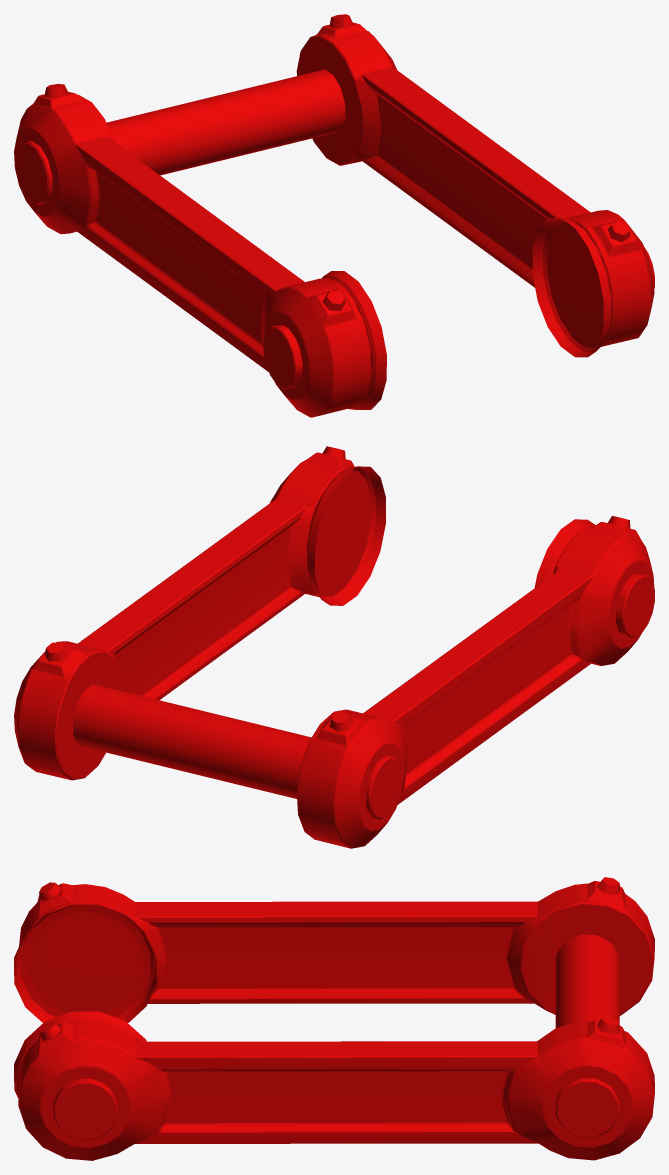
Rendered from ExcavatorMachine_Linkage02_01a_snaps005.fbx.
3 renders of one model, top to bottom at view 1: azimuth 30°, elevation 25°; view 2: azimuth 150°, elevation 25°; view 3: azimuth 270°, elevation 25°, orthographic.
Visible parts, largest first — view 1: ExcavatorMachine_Linkage02_01a_snaps005_LOD0; view 2: ExcavatorMachine_Linkage02_01a_snaps005_LOD0; view 3: ExcavatorMachine_Linkage02_01a_snaps005_LOD0.
Boxes of the visible parts, box(x1,y1,x2,y2) form: ExcavatorMachine_Linkage02_01a_snaps005_LOD0: box(14, 14, 654, 417); ExcavatorMachine_Linkage02_01a_snaps005_LOD0: box(14, 446, 654, 848); ExcavatorMachine_Linkage02_01a_snaps005_LOD0: box(14, 877, 654, 1160).
Size of what is drawn, in the model's own units: 58.91 by 21.58 by 90.29.
